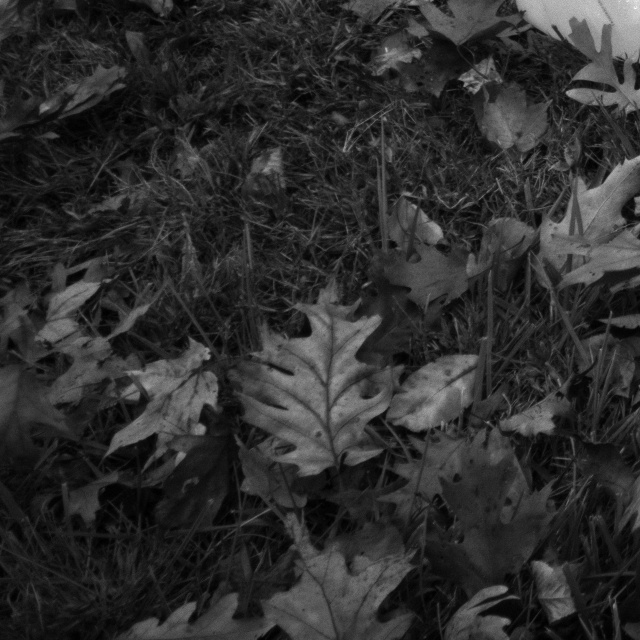can: (485, 0, 640, 69)
